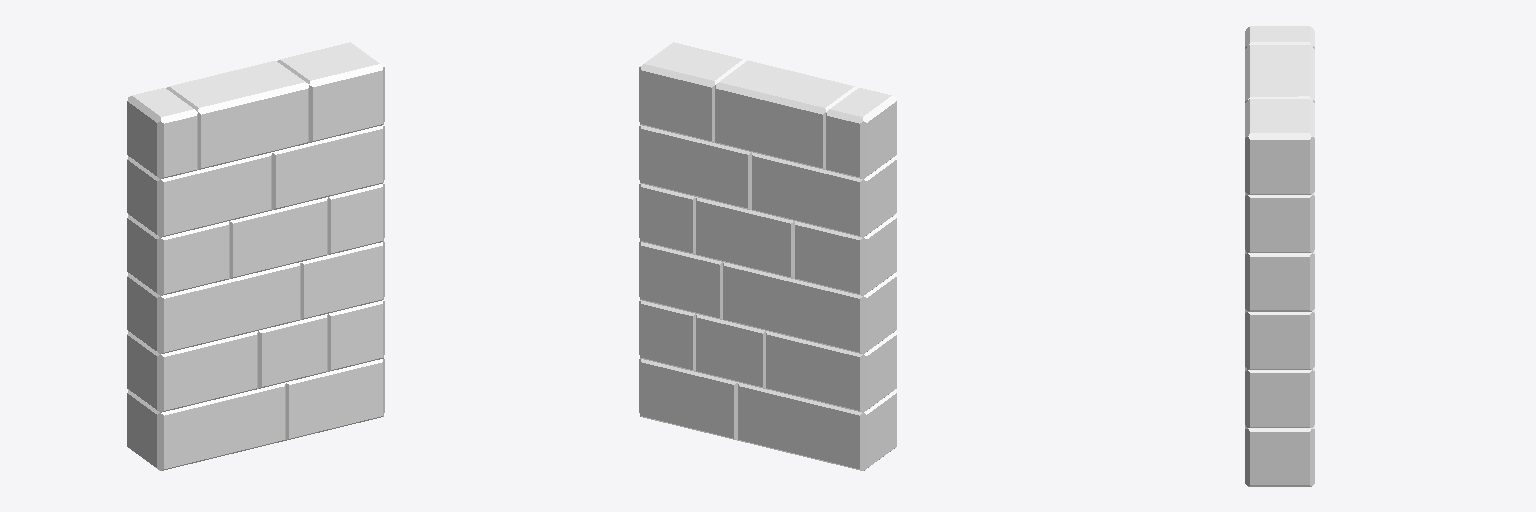
File: Wall1_H1.0.obj
3 views of the same model, side by side, from view 1: azimuth 30°, elevation 25°; view 2: azimuth 150°, elevation 25°; view 3: azimuth 270°, elevation 25° (orthographic).
Visible parts, largest first — view 1: Box002; view 2: Box002; view 3: Box002.
Part boxes in pixels (x1,y1,x2,y2): Box002: (127, 42, 384, 470); Box002: (639, 42, 896, 470); Box002: (1245, 26, 1314, 486).
Size of the model in its own units: 2.04 by 3.02 by 0.54.